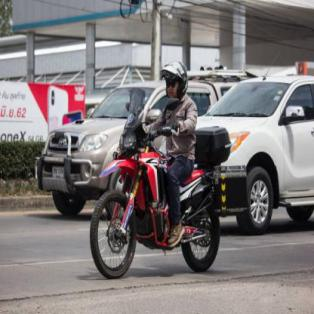Motocicleta: (92, 114, 224, 276)
